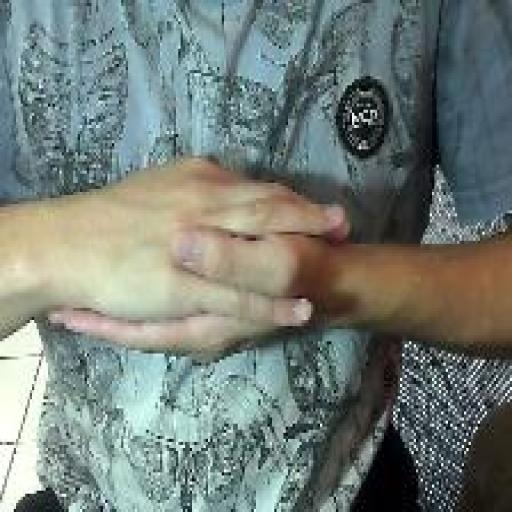Saru -monkey-: (41, 148, 357, 376)
